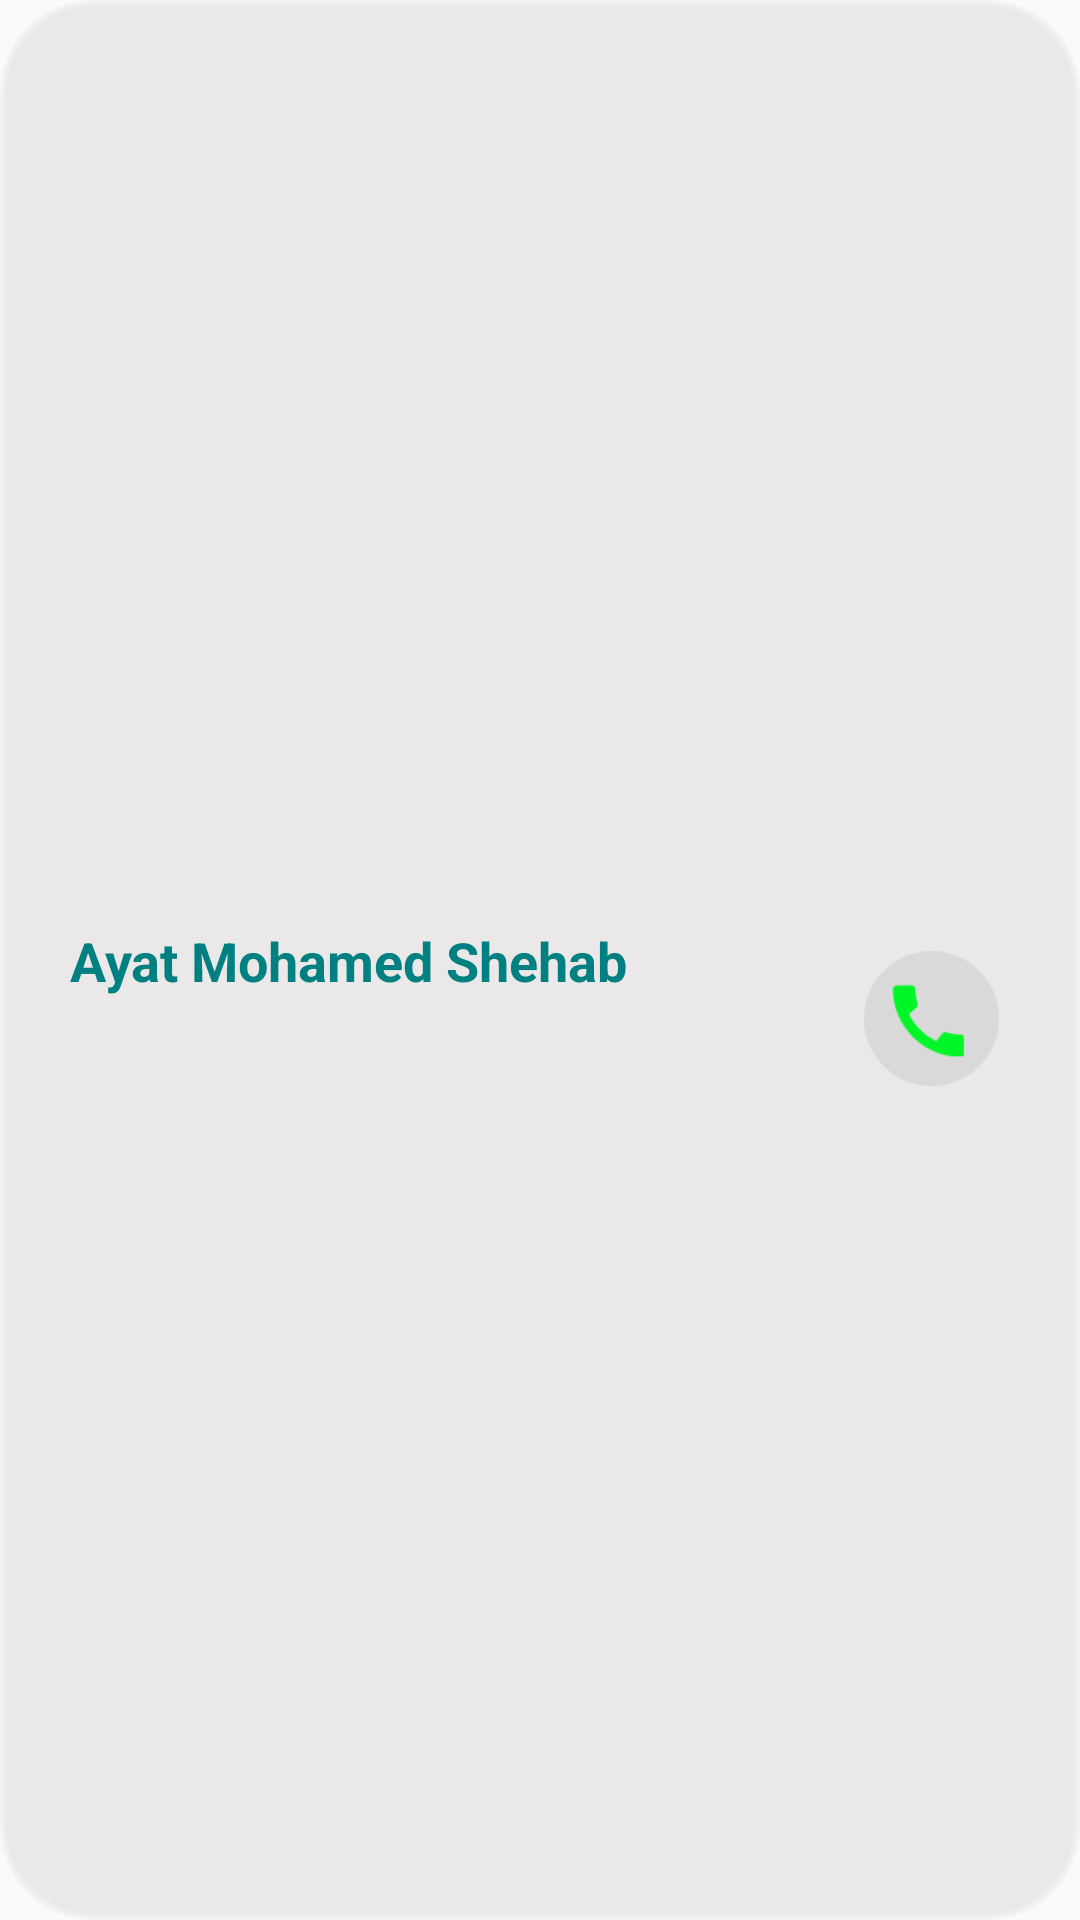

Named icons in this screenshot (1080 x 1920) and their centers, point (x, y):
emergybtn: point (931, 1018)
